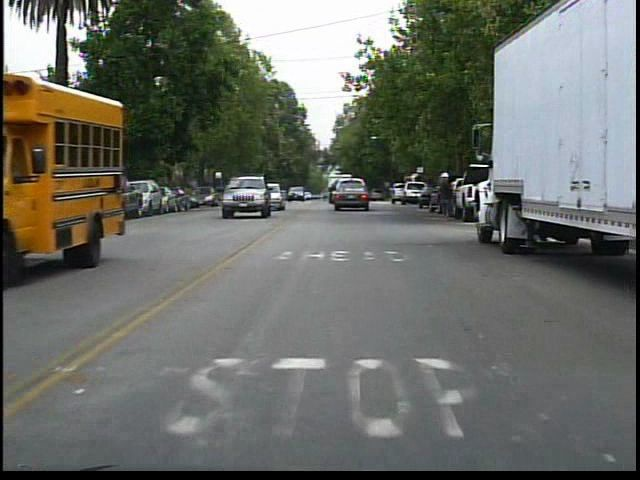person: (435, 170, 461, 223)
